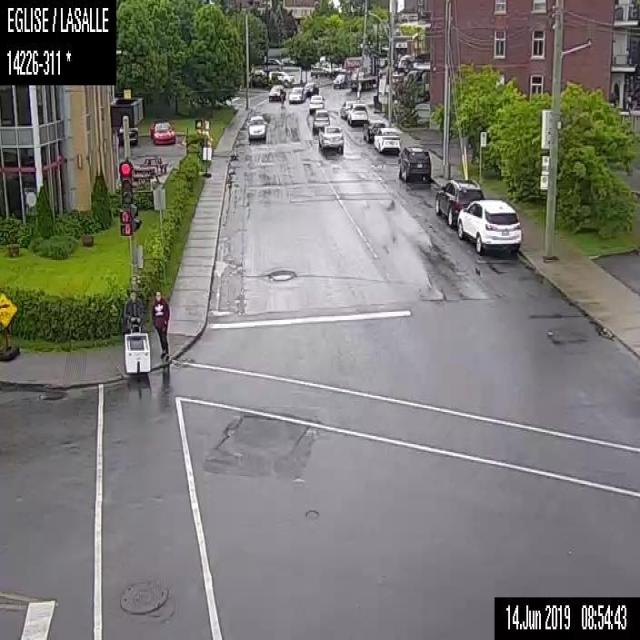cyclist: (278, 89, 285, 110)
pedestrian: (119, 290, 151, 374), (150, 288, 170, 364)
vehicle: (454, 198, 522, 255), (433, 177, 484, 225), (397, 146, 432, 181), (372, 125, 400, 155), (148, 118, 176, 145), (317, 125, 343, 154), (246, 110, 266, 142), (361, 118, 386, 143), (345, 102, 368, 126), (310, 108, 330, 131), (268, 68, 294, 83), (118, 125, 138, 144), (286, 84, 305, 102), (339, 99, 356, 118), (308, 93, 326, 110), (266, 83, 284, 100), (303, 80, 318, 97), (332, 72, 346, 88), (264, 55, 281, 68)
